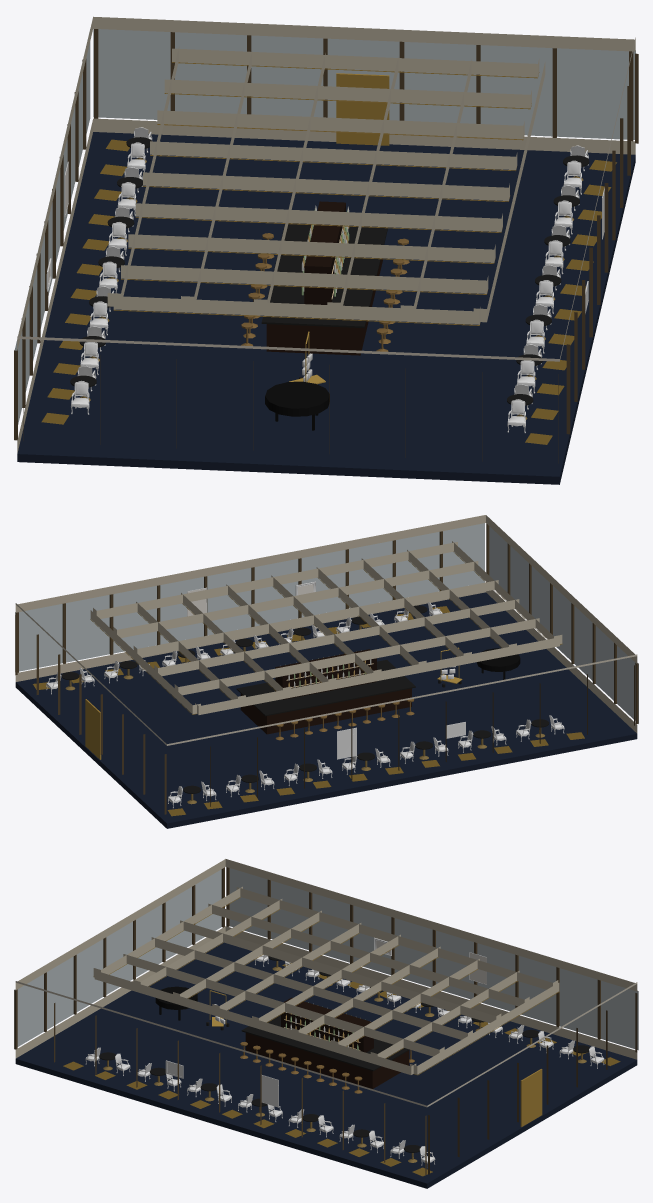
The model's file is markHopkins_int.glb.
3 views of the same model, one above another, from view 1: azimuth 30°, elevation 25°; view 2: azimuth 150°, elevation 25°; view 3: azimuth 270°, elevation 25° (orthographic). The views are drawn at different scales.
Parts seen in each view (by area): view 1: I_x_carpet_red, I_x_plaster, I_glassI, I_metal, I_p_GreenChair_01__0, I_x_gold, I_x_marble_white, I_x_veneer, I_crystal; view 2: I_x_carpet_red, I_x_plaster, I_glassI, I_metal, I_x_veneer, I_x_marble_white, I_p_GreenChair_01__0, I_x_gold, I_crystal, I_p_hanging_picture_frame_01__2; view 3: I_x_carpet_red, I_x_plaster, I_glassI, I_metal, I_x_veneer, I_p_GreenChair_01__0, I_x_marble_white, I_x_gold, I_crystal, I_p_hanging_picture_frame_01__2.
Boxes of the visible parts, box(x1,y1,x2,y2) form: I_x_carpet_red: box(17, 132, 635, 484); I_x_plaster: box(17, 16, 635, 453); I_glassI: box(14, 29, 635, 424); I_metal: box(14, 29, 638, 463); I_p_GreenChair_01__0: box(71, 127, 588, 433); I_x_gold: box(113, 62, 539, 325); I_x_marble_white: box(70, 137, 589, 405); I_x_veneer: box(265, 201, 382, 430); I_crystal: box(48, 164, 349, 296); I_x_carpet_red: box(15, 592, 637, 828); I_x_plaster: box(15, 515, 637, 745); I_glassI: box(15, 523, 638, 723); I_metal: box(15, 523, 638, 814); I_x_veneer: box(240, 648, 520, 734); I_x_marble_white: box(61, 605, 548, 793); I_p_GreenChair_01__0: box(46, 602, 564, 808); I_x_gold: box(85, 551, 562, 759); I_crystal: box(187, 584, 371, 687); I_p_hanging_picture_frame_01__2: box(187, 587, 356, 759); I_x_carpet_red: box(15, 942, 637, 1188); I_x_plaster: box(15, 859, 637, 1107); I_glassI: box(14, 868, 638, 1050); I_metal: box(14, 867, 637, 1174); I_x_veneer: box(155, 986, 409, 1088); I_p_GreenChair_01__0: box(85, 954, 604, 1167); I_x_marble_white: box(99, 956, 589, 1152); I_x_gold: box(93, 897, 559, 1126); I_crystal: box(285, 940, 486, 1050); I_p_hanging_picture_frame_01__2: box(261, 952, 486, 1107).
Size of the model in its own units: 30.27 by 5.05 by 31.99.
